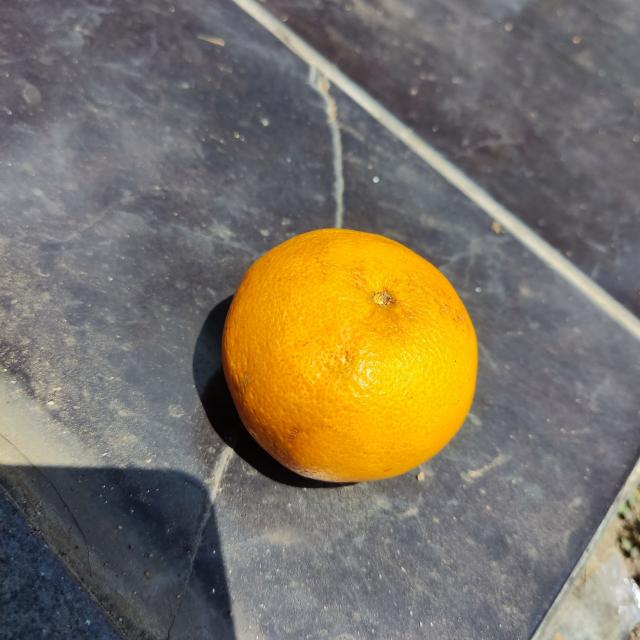orange: (220, 228, 477, 483)
